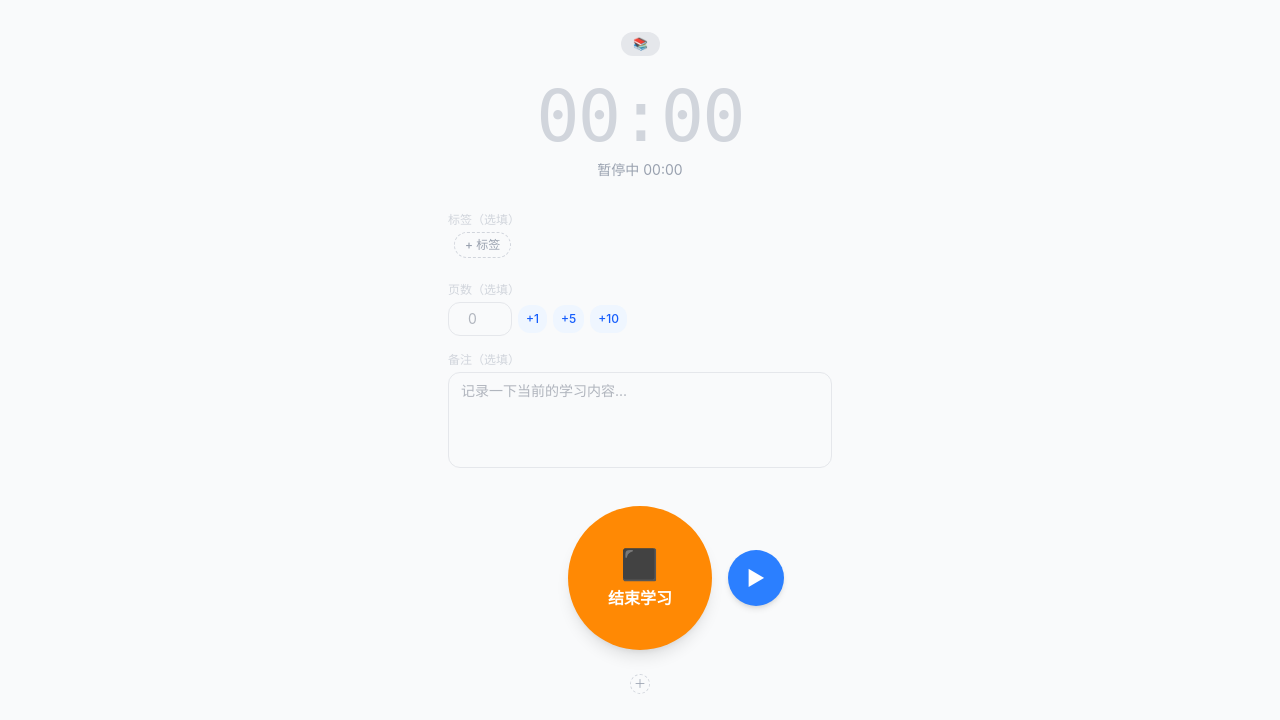
Test: TimerPage › 暂停态点击结束 → 弹出确认窗
Step 1. Click the text "结束学习" → point(640, 598), box [608, 586, 672, 610]
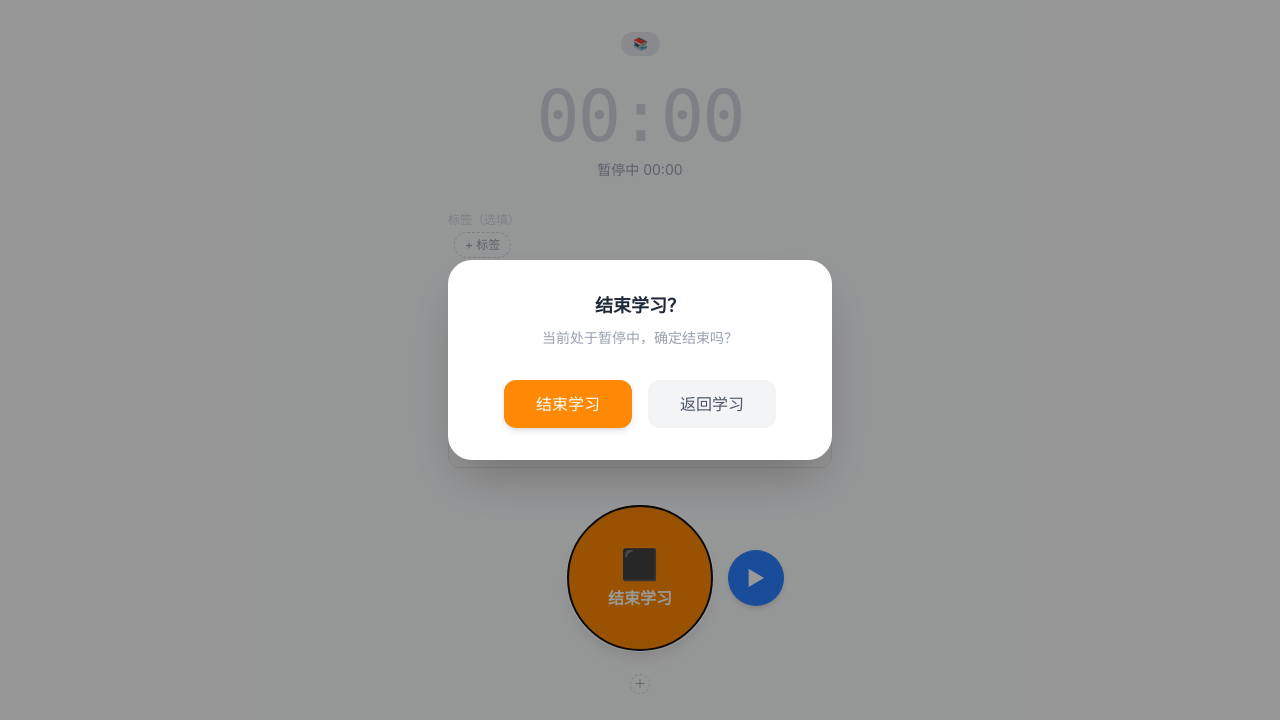
Check: the text "当前处于暂停中，确定结束吗？" is shown, box [542, 329, 738, 346]
